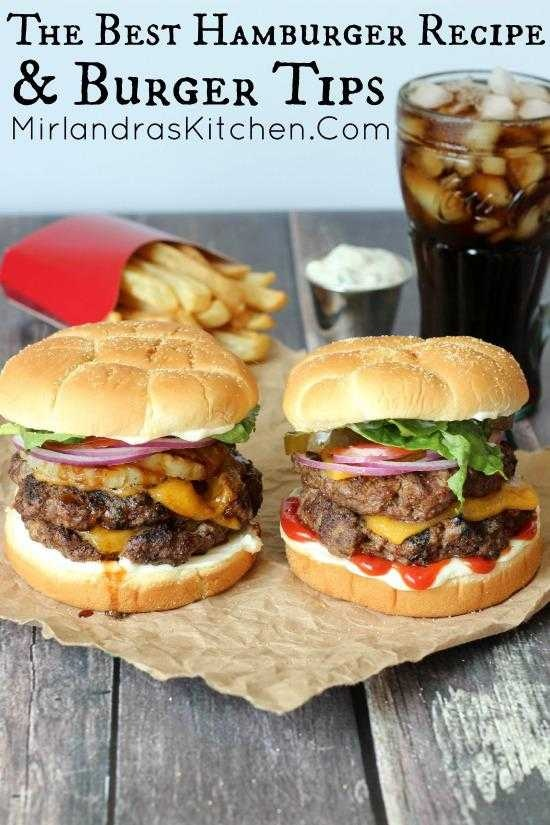hamburger: (263, 324, 536, 605), (1, 326, 273, 607)
